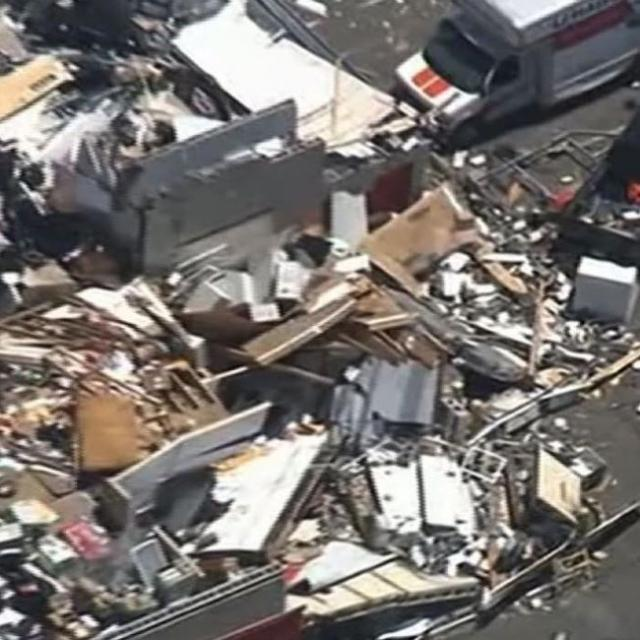collapsed_building: (0, 3, 485, 554)
